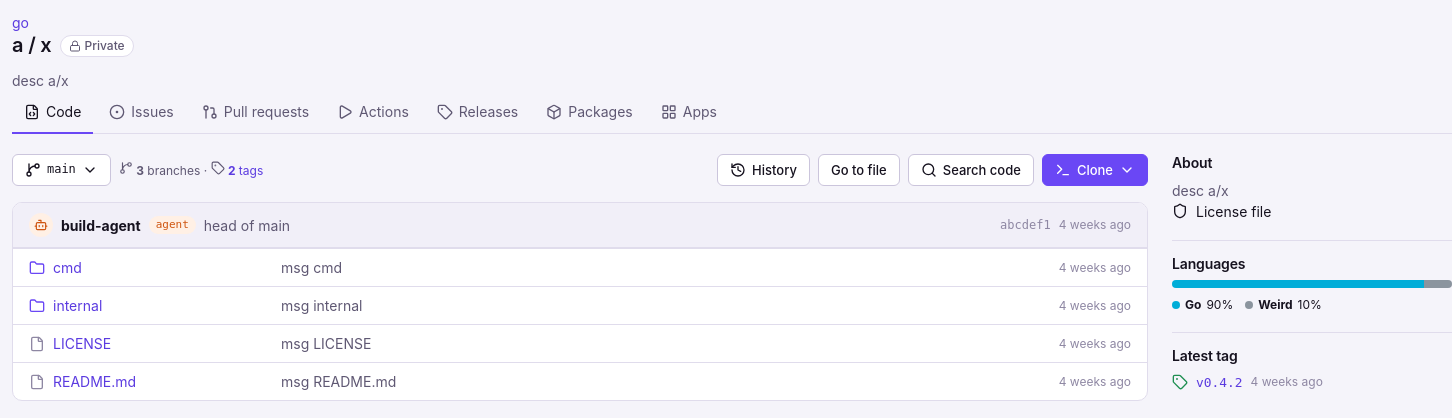
Test: CodeBrowser › ricarica quando la rotta passa da un repo a un altro
Expected: the heading "a / x" is shown, [12,33,52,58]
Click the link "go" at [20, 22], box [12,14,29,31]
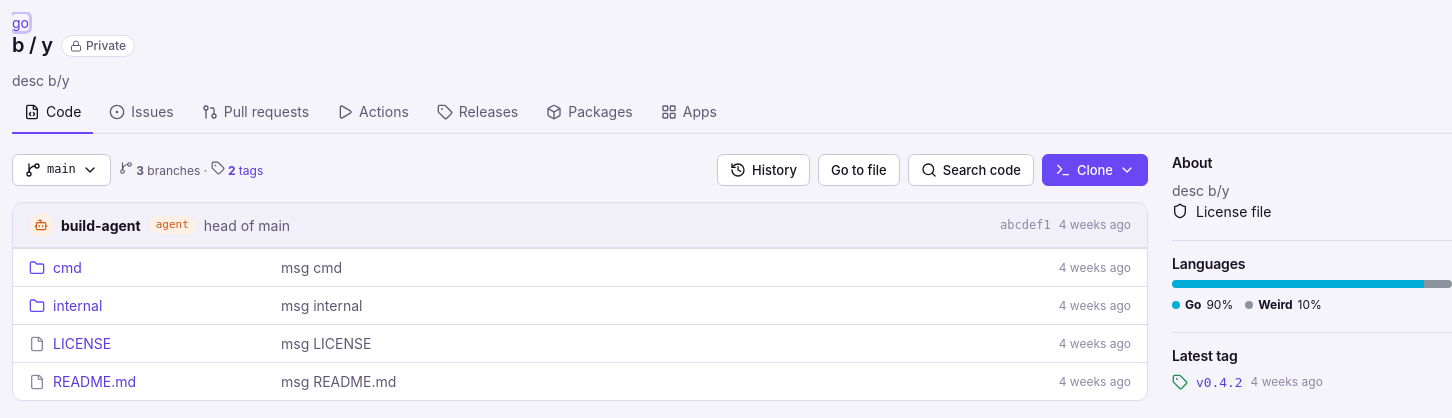
Expected: the heading "b / y" is shown, [12,33,53,58]
Expected: the heading "a / x" is gone
